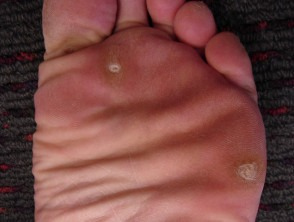Warts: (230, 151, 263, 190), (98, 50, 130, 85)
